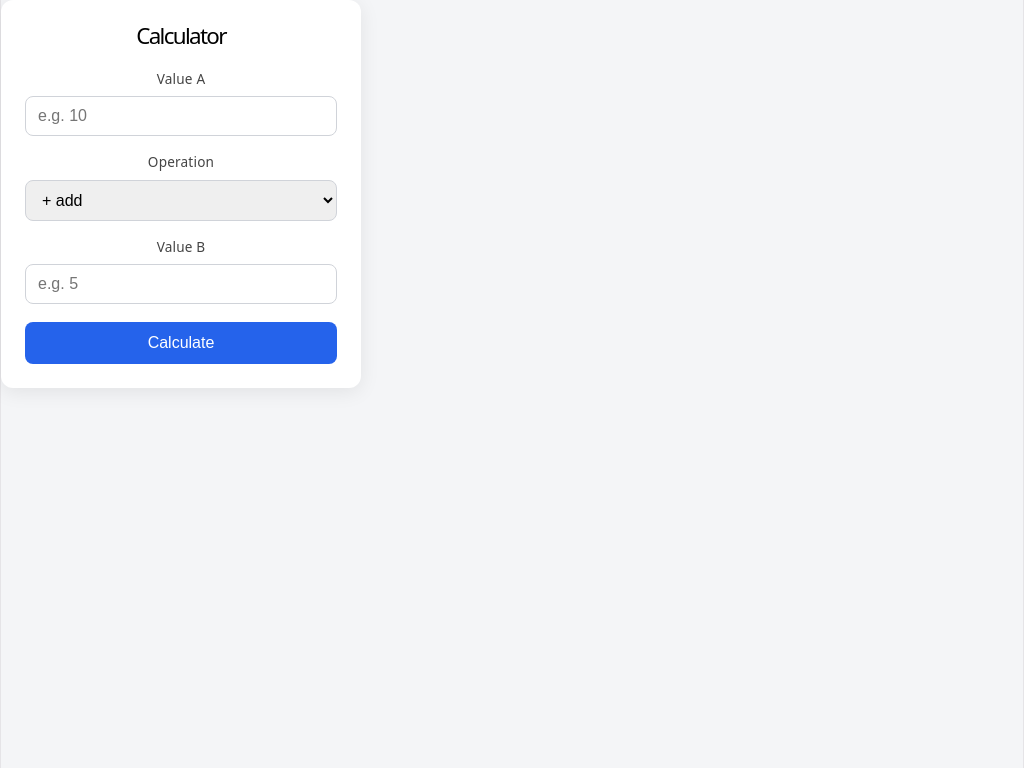
Test case: Calculator › shows a validation error when input A is empty
Click the button "Calculate" at (181, 343), box [25,322,337,364]
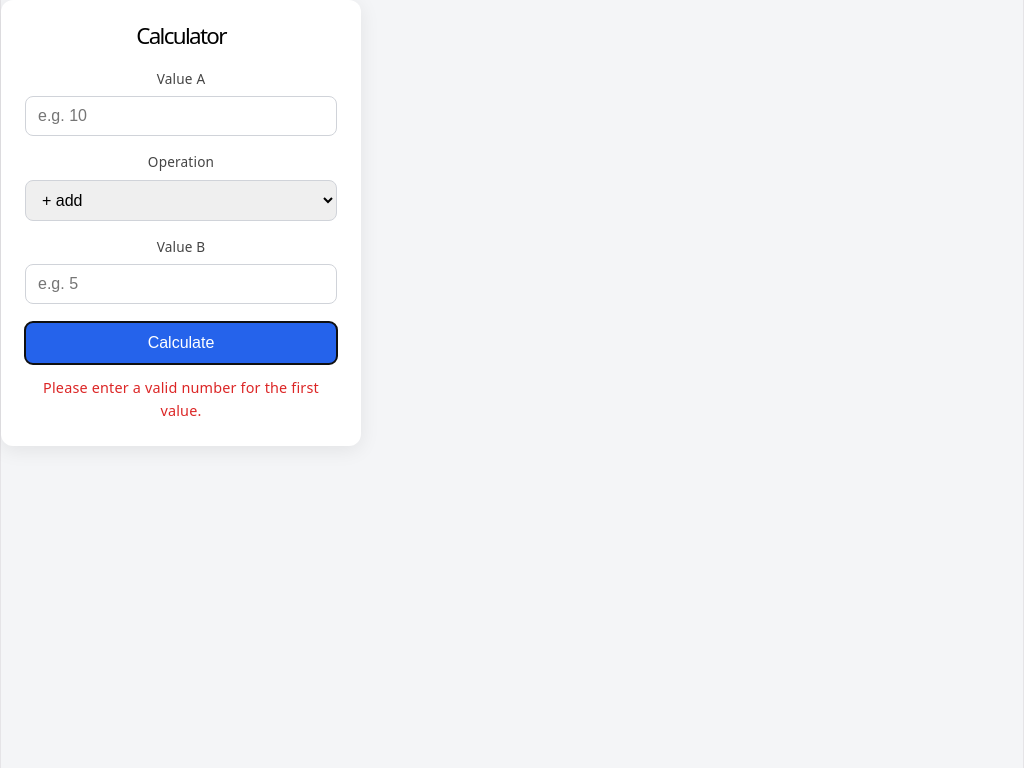
Check: the message shows "valid number for the first value", box [43,378,319,420]
